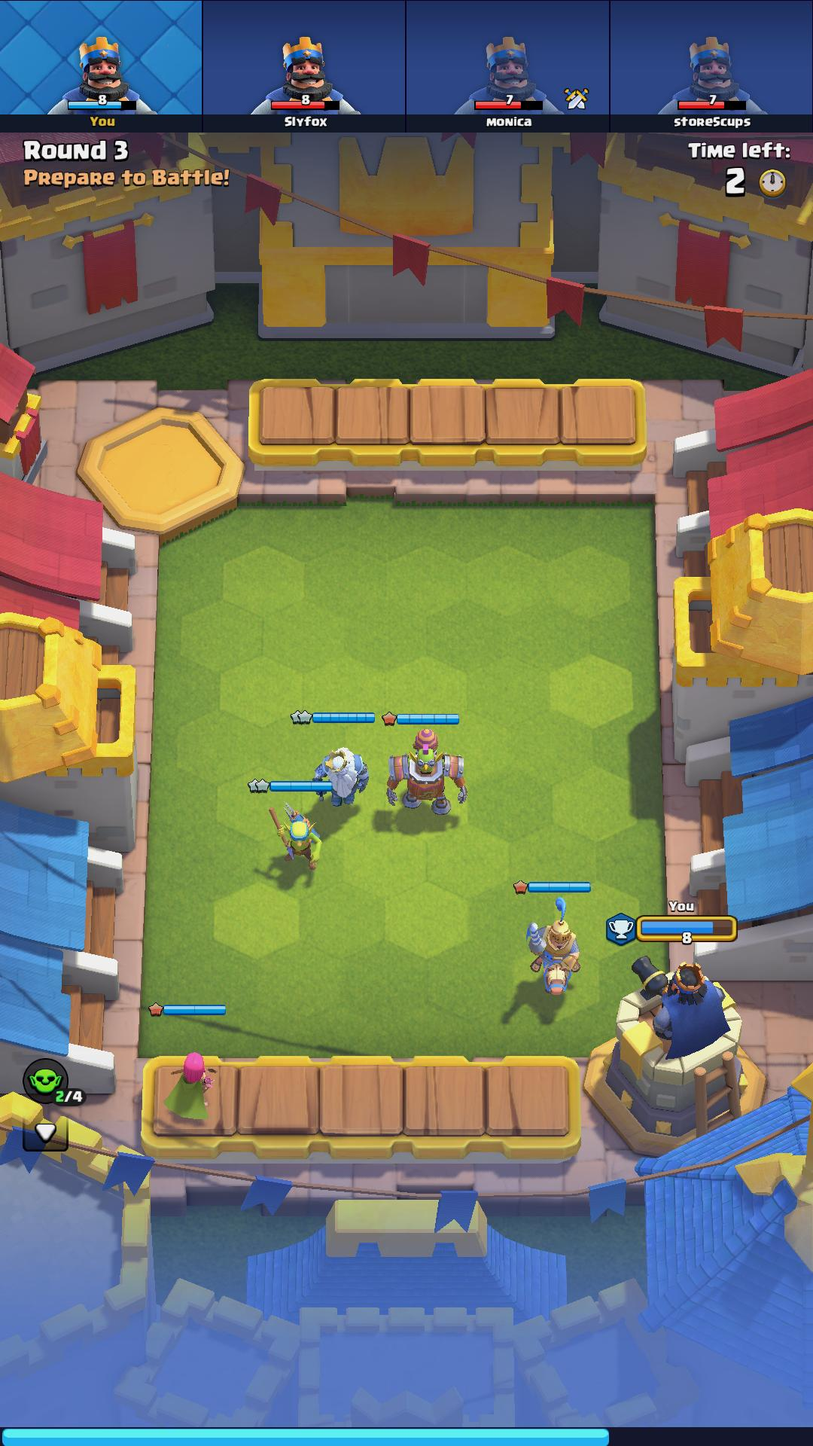ghost: (306, 741, 371, 810)
machine: (380, 728, 472, 817)
prince: (522, 891, 587, 1005)
spear: (260, 800, 326, 869)
